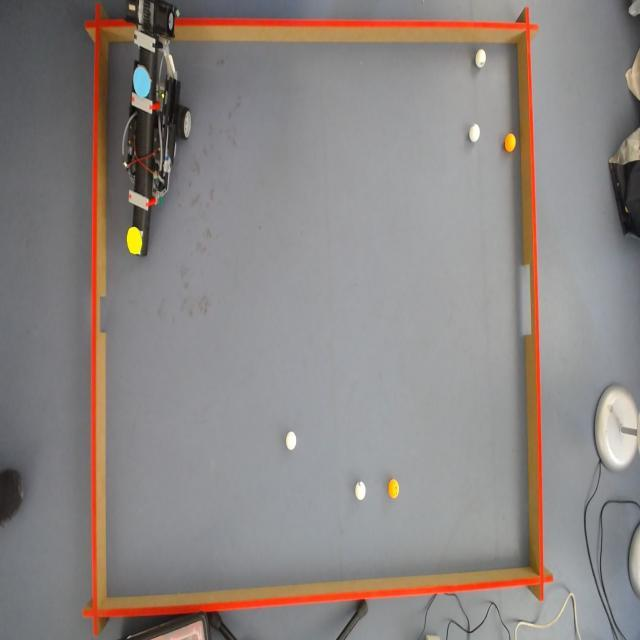orange: (388, 472, 398, 500), (506, 132, 518, 152)
robot: (114, 0, 187, 258)
robot-front: (128, 227, 142, 252)
robot-rear: (132, 66, 152, 99)
white: (354, 480, 368, 502), (286, 432, 298, 452), (476, 50, 488, 68), (469, 124, 480, 142)
